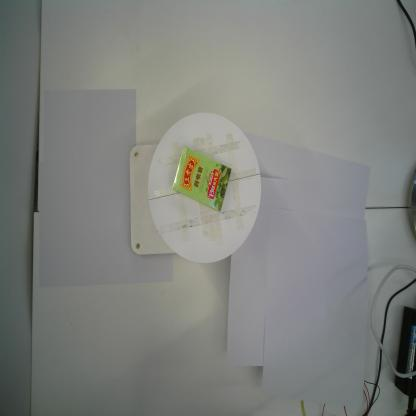Candy: (172, 146, 232, 212)
